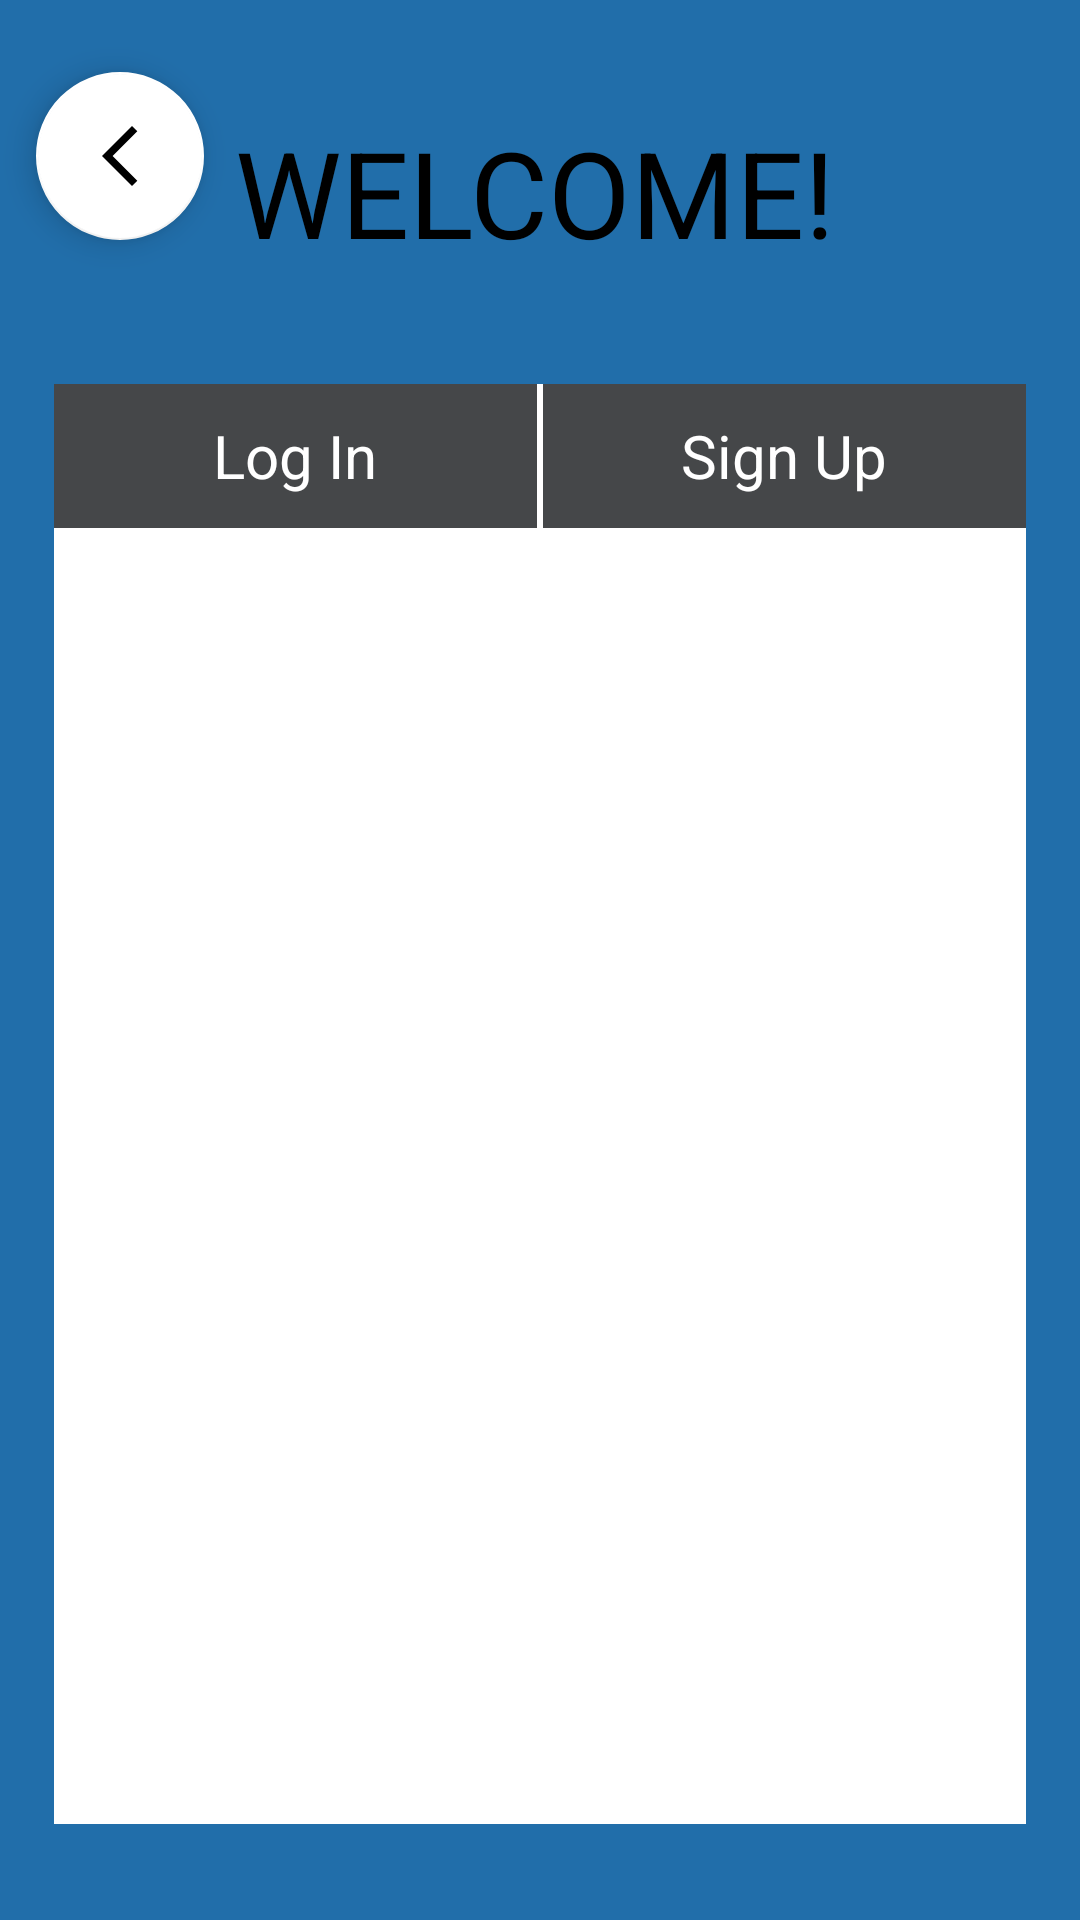

Icons on this 1080 x 1920 Android screen, each with its box as bbox=[x1, y1, x2, y2]:
Back Btn: bbox=[36, 72, 204, 240]
